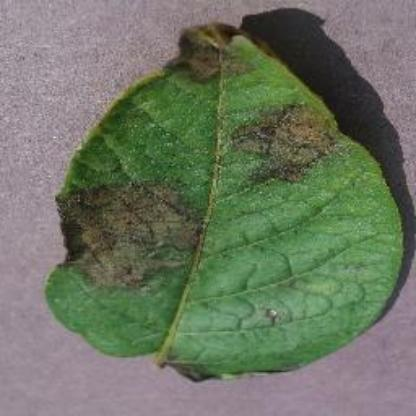Late-Blight: (47, 7, 412, 405)
